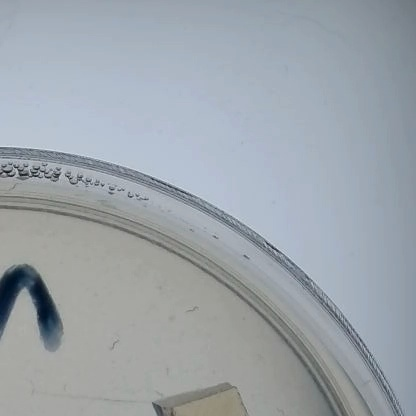worm: (168, 298, 198, 332), (104, 335, 127, 361), (24, 382, 42, 405), (156, 363, 173, 383), (272, 402, 287, 416), (150, 387, 164, 395)
